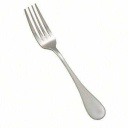Fork: (21, 2, 115, 128)
